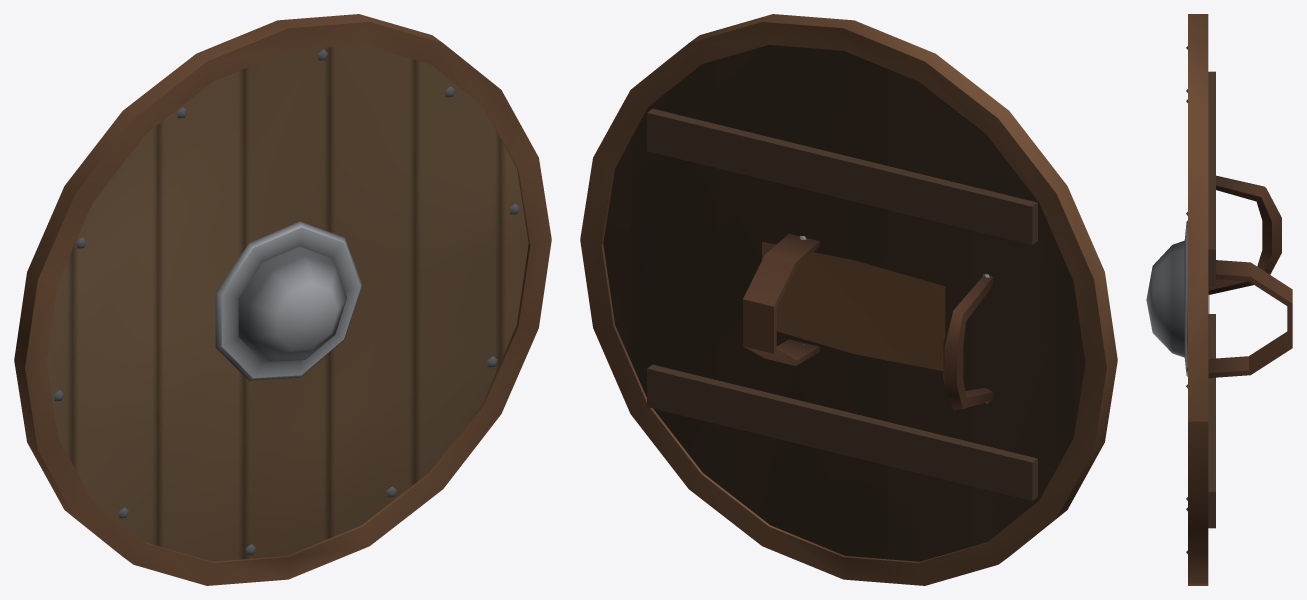
File: shield_wood.glb
The picture shows the model from 3 angles, left to right: view 1: azimuth 30°, elevation 25°; view 2: azimuth 150°, elevation 25°; view 3: azimuth 270°, elevation 25°; orthographic projection. The views are drawn at different scales.
Visible parts, largest first — view 1: shield_wood; view 2: shield_wood; view 3: shield_wood.
Boxes of the visible parts, left/top/right/bottom form: shield_wood: left=14, top=14, right=551, bottom=585; shield_wood: left=580, top=14, right=1117, bottom=585; shield_wood: left=1146, top=14, right=1292, bottom=585.
Size of the model in its own units: 0.6463 by 0.6463 by 0.164.
